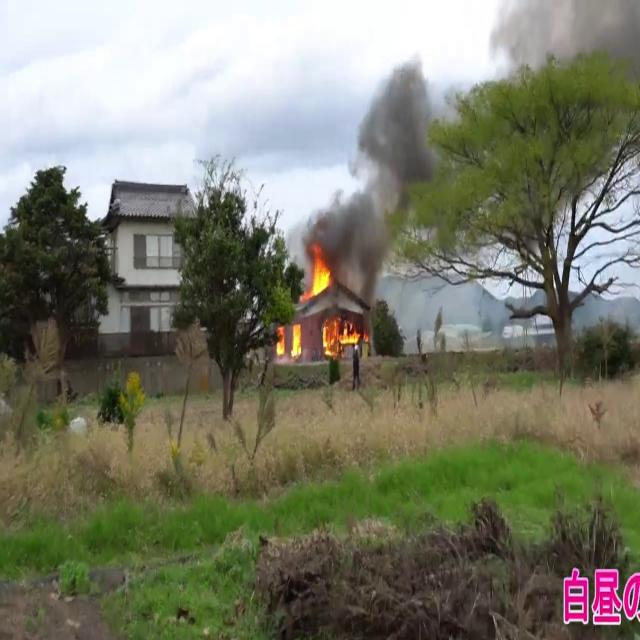Fire: (285, 248, 365, 359), (304, 245, 334, 302)
Smoke: (315, 38, 459, 286)
